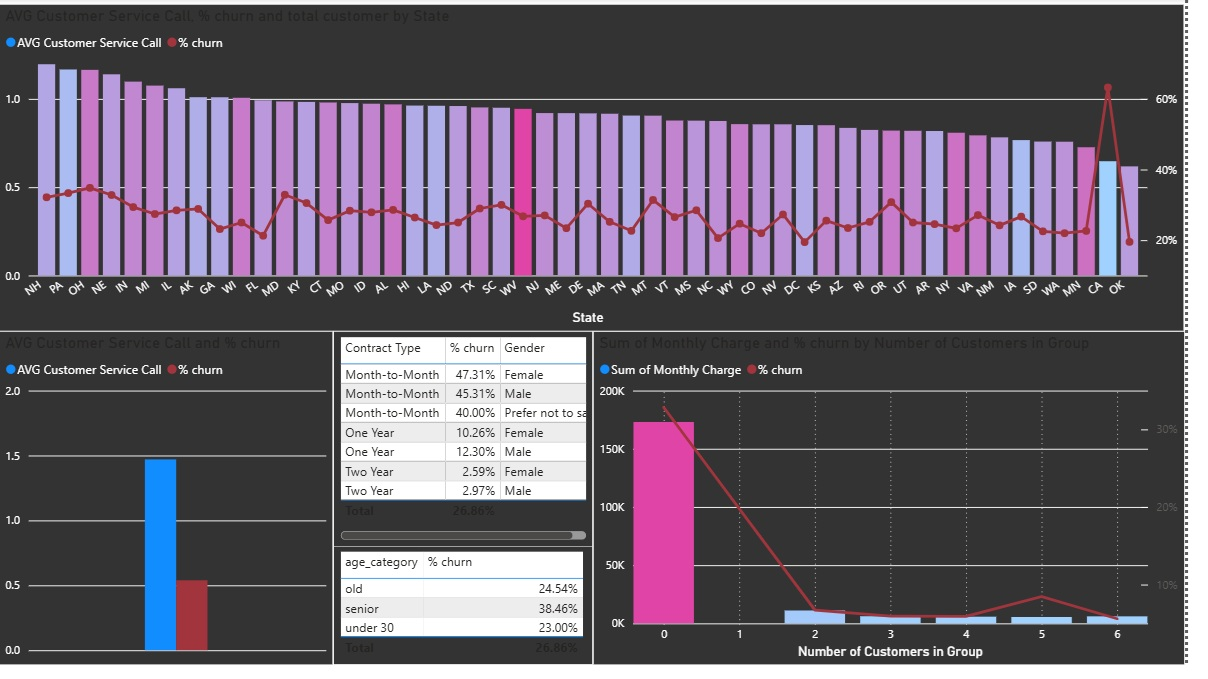

The dashboard page shown, as its layout file describes it:
{"tool":"powerbi","page":{"name":"call center&churn","canvas":[1280,720],"ordinal":4},"visuals":[{"type":"tableEx","fields":{"Values":["Databel - Data.age_category","Databel - Data.% churn"]},"box":[360.9,591.5,279.7,128.5],"z":0},{"type":"lineStackedColumnComboChart","fields":{"Y":["Sum(Databel - Data.Monthly Charge)"],"Y2":["Databel - Data.% churn"],"Category":["Databel - Data.Number of Customers in Group"]},"box":[640.6,359.1,638.7,360.9],"z":1000},{"type":"lineStackedColumnComboChart","fields":{"Y":["Databel - Data.AVG Customer Service Call"],"Category":["Databel - Data.State"],"Y2":["Databel - Data.% churn"]},"box":[0,5.7,1279.4,353.4],"z":2000},{"type":"tableEx","fields":{"Values":["Databel - Data.Contract Type","Databel - Data.% churn","Databel - Data.Gender"]},"box":[360.9,359.1,279.7,232.4],"z":3000},{"type":"clusteredColumnChart","fields":{"Y":["Databel - Data.AVG Customer Service Call","Databel - Data.% churn"]},"box":[0,359.1,360.9,360.9],"z":4000}]}

Visuals, with their boxes in screenshot pixels (x1, y1, x2, y2), scaled from the page's 1280x720 canvas onto the 1208x679 screenshot:
tableEx - Databel - Data.age_category x Databel - Data.% churn: bbox(341, 558, 605, 678)
lineStackedColumnComboChart - Sum(Databel - Data.Monthly Charge) x Databel - Data.% churn: bbox(605, 339, 1207, 678)
lineStackedColumnComboChart - Databel - Data.AVG Customer Service Call x Databel - Data.State: bbox(0, 5, 1207, 339)
tableEx - Databel - Data.Contract Type x Databel - Data.% churn: bbox(341, 339, 605, 558)
clusteredColumnChart - Databel - Data.AVG Customer Service Call x Databel - Data.% churn: bbox(0, 339, 341, 678)
